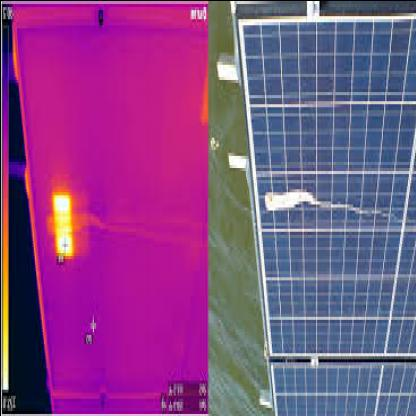Defects: (53, 191, 69, 219), (56, 228, 72, 252)
